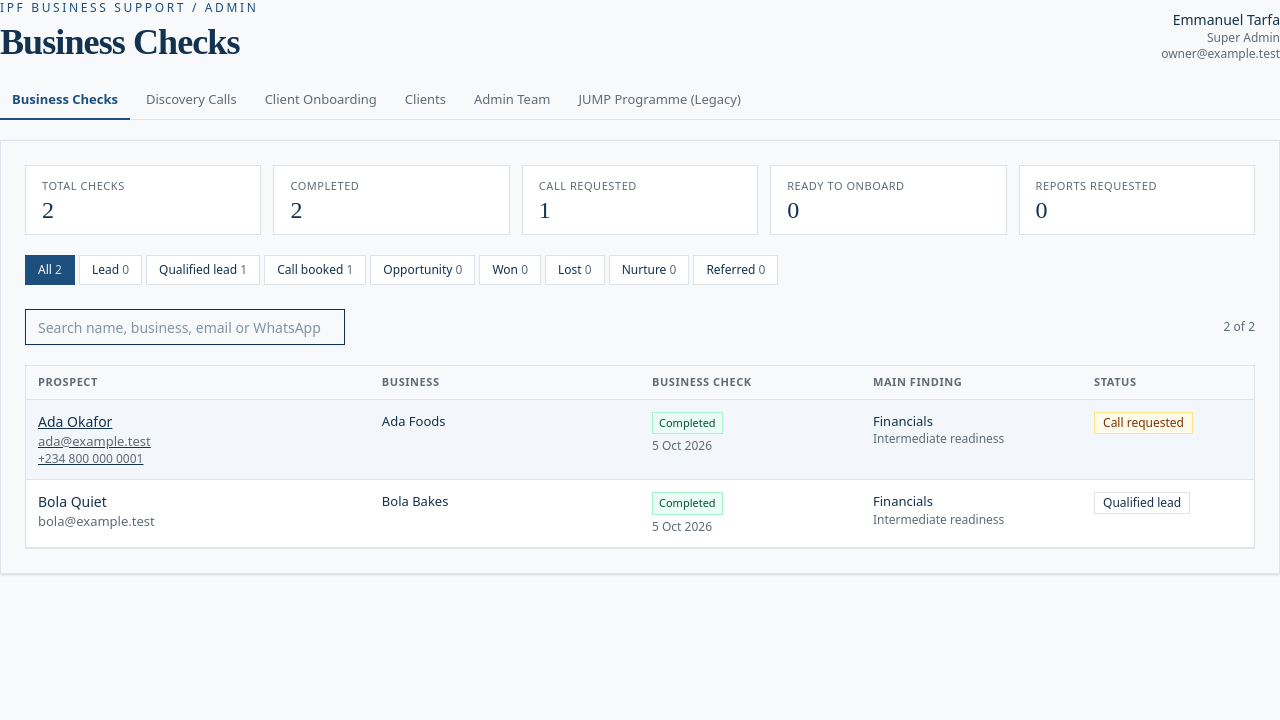
Scenario: Business Check record drawer › is reachable by keyboard: each row has a real focusable button that opens the record
Click the button with aria-label "Open record for Ada Okafor". click: (75, 421)
box: x1=38 y1=412 x2=358 y2=467
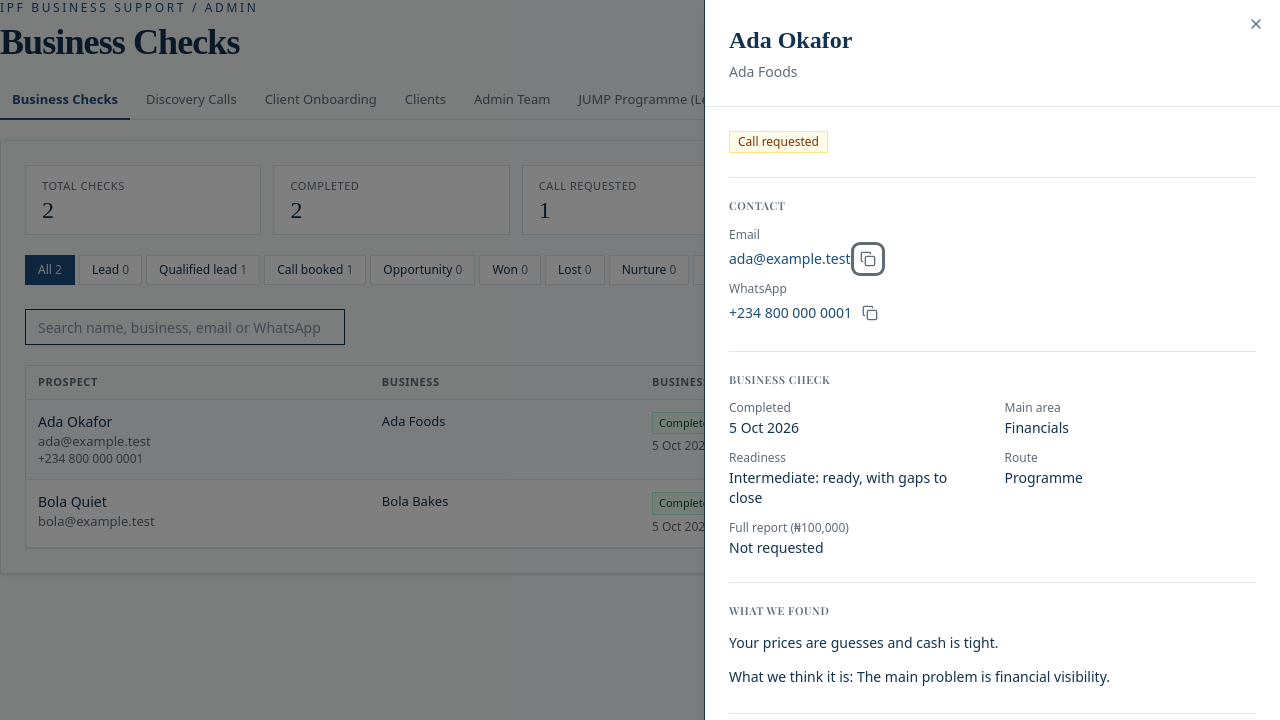
Now the text "Ada Foods" is shown, box x1=729 y1=62 x2=798 y2=81
